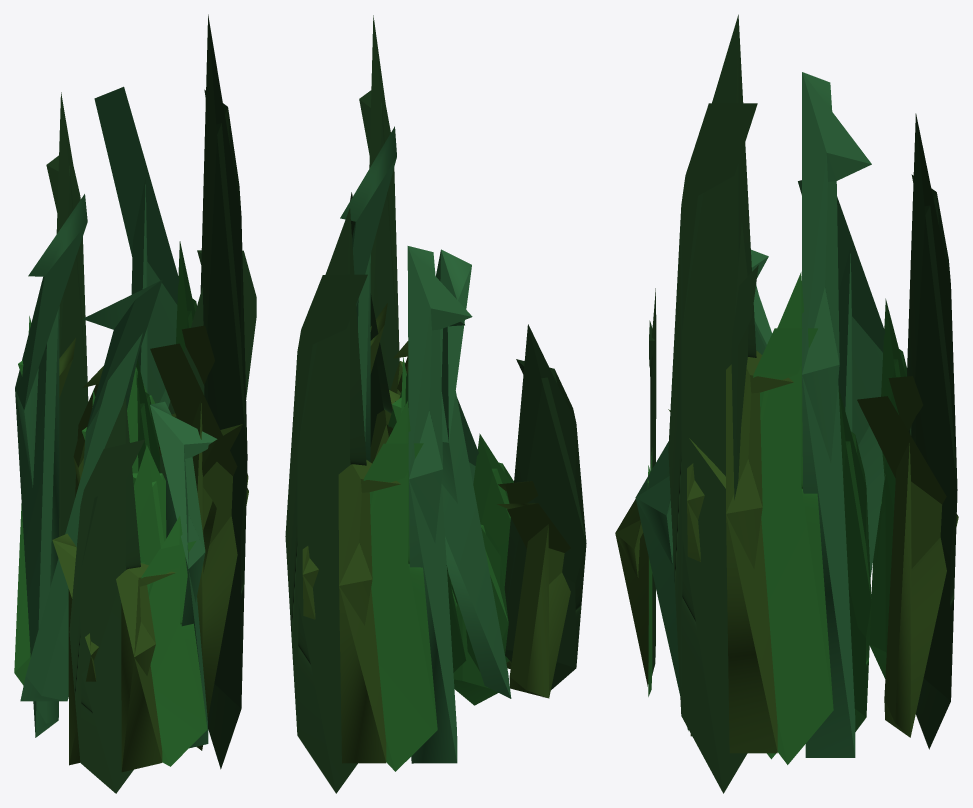
File: grassddd.FBX
3 views of the same model, side by side, from view 1: azimuth 30°, elevation 25°; view 2: azimuth 150°, elevation 25°; view 3: azimuth 270°, elevation 25° (orthographic). The views are drawn at different scales.
Parts seen in each view (by area): view 1: Box006; view 2: Box006; view 3: Box006.
Part boxes in pixels (bbox=[...]): Box006: bbox=[14, 14, 256, 793]; Box006: bbox=[285, 15, 586, 793]; Box006: bbox=[615, 14, 958, 793].
Bounding box in the file's own units: 17.36 × 55.02 × 22.04.
